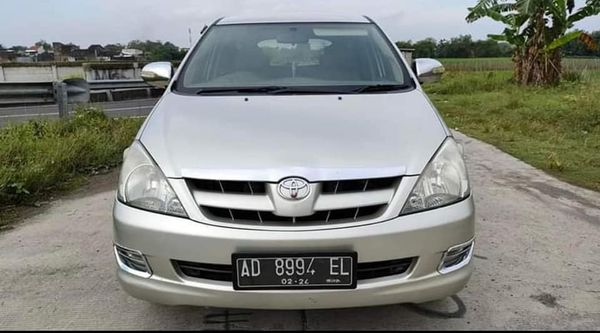plate: (232, 254, 357, 293)
